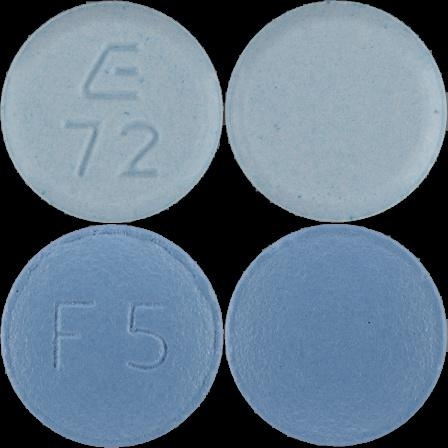70786-0072: (0, 0, 224, 224)
